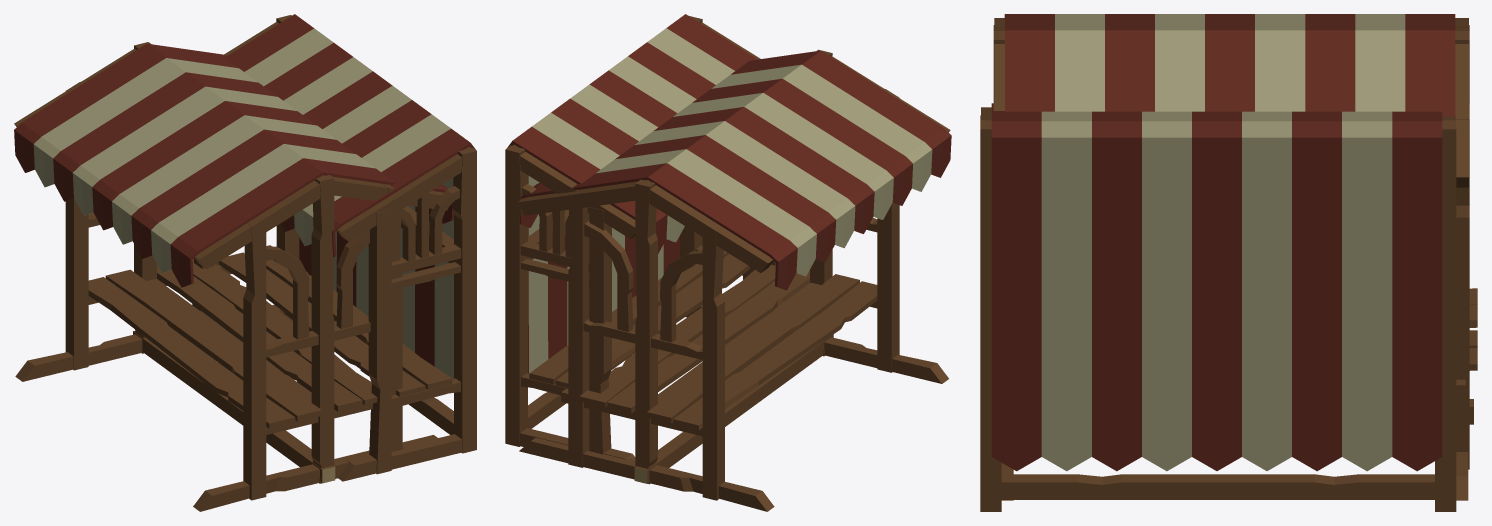
The model's file is london_bld_market_stalls.glb.
3 renders of one model, left to right at view 1: azimuth 30°, elevation 25°; view 2: azimuth 150°, elevation 25°; view 3: azimuth 270°, elevation 25°, orthographic. The views are drawn at different scales.
Parts seen in each view (by area): view 1: MarketStand_1, MarketStand_2; view 2: MarketStand_1, MarketStand_2; view 3: MarketStand_2, MarketStand_1.
Part boxes in pixels (left/top/right/bottom): MarketStand_1: left=14, top=42, right=453, bottom=511; MarketStand_2: left=192, top=14, right=476, bottom=481; MarketStand_1: left=517, top=49, right=951, bottom=511; MarketStand_2: left=505, top=14, right=778, bottom=459; MarketStand_2: left=980, top=103, right=1456, bottom=511; MarketStand_1: left=993, top=14, right=1477, bottom=500.
Size of the model in its own units: 4.44 by 4.62 by 5.3.
